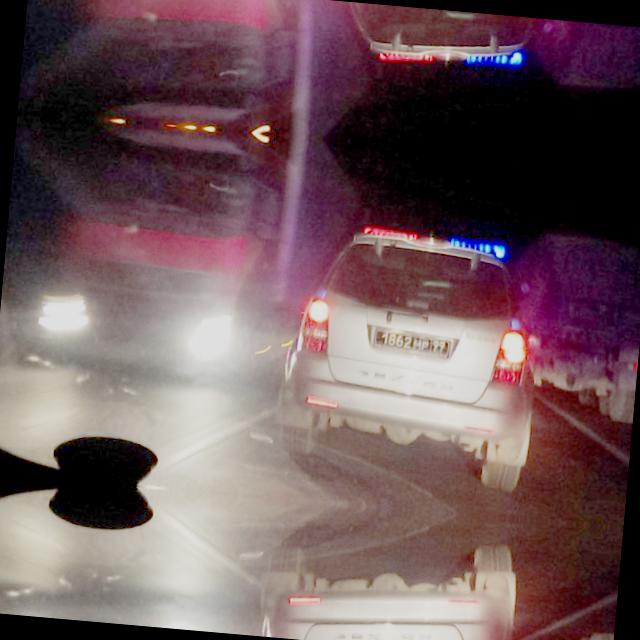military: (370, 322, 452, 362)
